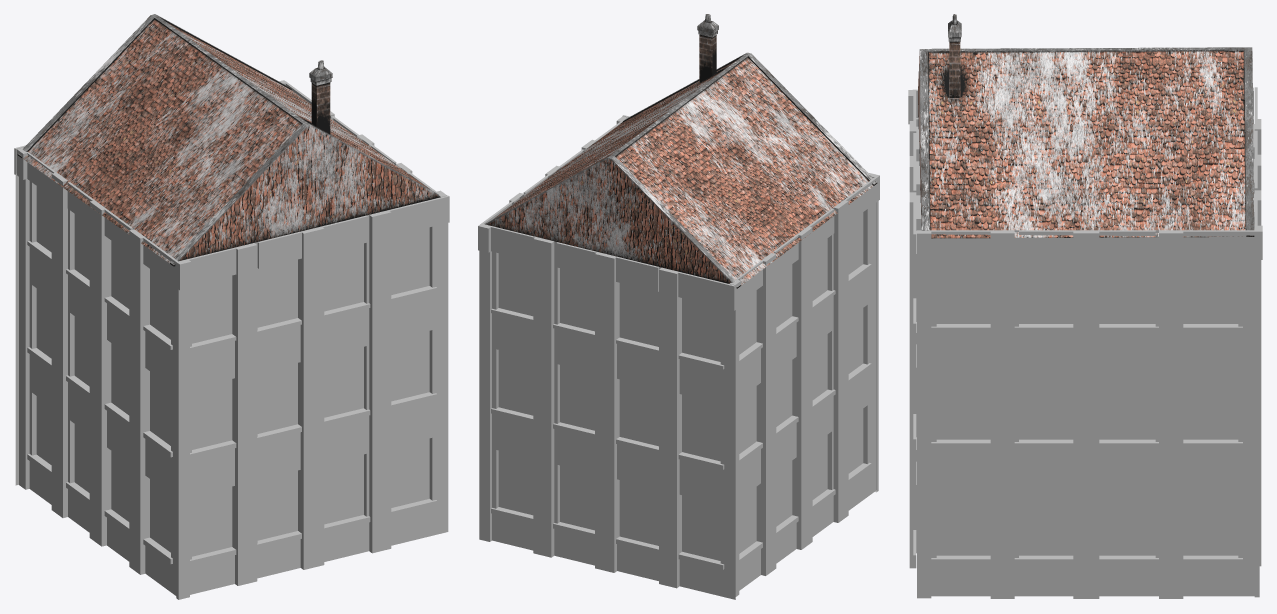
File: bilding.fbx
3 renders of one model, left to right at view 1: azimuth 30°, elevation 25°; view 2: azimuth 150°, elevation 25°; view 3: azimuth 270°, elevation 25°, orthographic. The views are drawn at different scales.
Visible parts, largest first — view 1: TexturesCom_BuildingsIndustrial0097_2_M.001, bat9-toiture.001; view 2: TexturesCom_BuildingsIndustrial0097_2_M.001, bat9-toiture.001; view 3: TexturesCom_BuildingsIndustrial0097_2_M.001, bat9-toiture.001.
Part boxes in pixels (<box>): TexturesCom_BuildingsIndustrial0097_2_M.001: <box>14,80,449,599</box>; bat9-toiture.001: <box>17,14,440,266</box>; TexturesCom_BuildingsIndustrial0097_2_M.001: <box>478,115,879,599</box>; bat9-toiture.001: <box>485,14,877,288</box>; TexturesCom_BuildingsIndustrial0097_2_M.001: <box>908,87,1262,598</box>; bat9-toiture.001: <box>918,14,1254,238</box>.
Bounding box in the file's own units: 218 × 365 × 222.
